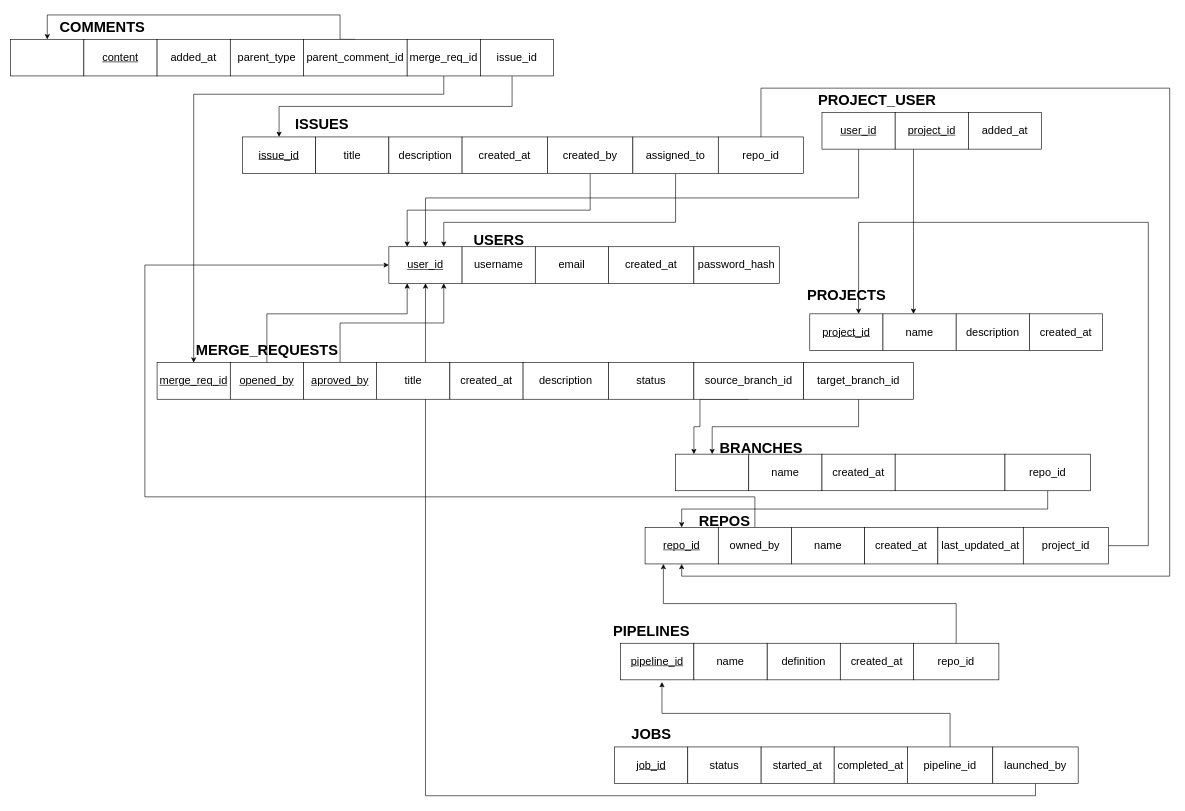
Some shapes in this 1185 by 811 pixel diagram are drawn without their labels. The shapes that lost their labels are listed below. From the top down, each one's centre as x and y in pixels, then its label:
At (47,57): "comment_id".
At (712,472): "branch_id".
At (950,472): "last_commit_hash".
